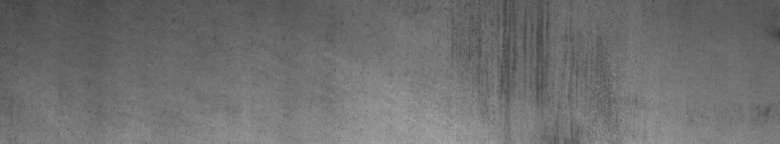ka: (464, 19, 582, 134)
